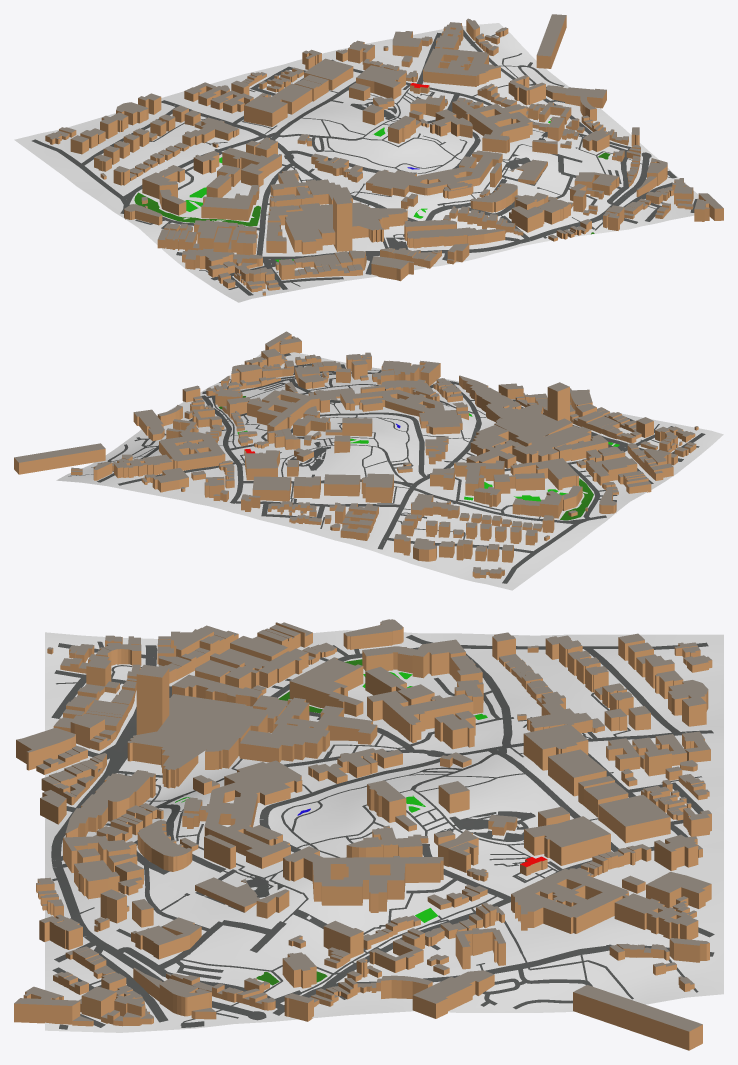
File: buildings.fbx
The picture shows the model from 3 angles, top to bottom: view 1: azimuth 30°, elevation 25°; view 2: azimuth 150°, elevation 25°; view 3: azimuth 270°, elevation 25°; orthographic projection. The views are drawn at different scales.
Parts seen in each view (by area): view 1: map_4.osm_buildings, Terrain, map_4.osm_roads_residential, map_4.osm_paths_footway, map_4.osm_roads_unclassified, map_4.osm_roads_tertiary, map_4.osm_roads_secondary, map_4.osm_roads_service, map_4.osm_forest, map_4.osm_areas_pedestrian; view 2: map_4.osm_buildings, Terrain, map_4.osm_roads_residential, map_4.osm_roads_tertiary, map_4.osm_paths_footway, map_4.osm_roads_unclassified, map_4.osm_roads_service, map_4.osm_forest; view 3: map_4.osm_buildings, Terrain, map_4.osm_paths_footway, map_4.osm_roads_unclassified, map_4.osm_roads_residential, map_4.osm_roads_secondary, map_4.osm_roads_service, map_4.osm_roads_tertiary, map_4.osm_areas_pedestrian, map_4.osm_roads_pedestrian, map_4.osm_roads_primary, map_4.osm_paths_steps.
Part boxes in pixels (x1,y1,x2,y2): map_4.osm_buildings: (45, 14, 723, 295); Terrain: (14, 23, 698, 302); map_4.osm_roads_residential: (32, 32, 441, 295); map_4.osm_paths_footway: (149, 34, 657, 286); map_4.osm_roads_unclassified: (265, 81, 697, 274); map_4.osm_roads_tertiary: (161, 30, 631, 241); map_4.osm_roads_secondary: (365, 152, 676, 256); map_4.osm_roads_service: (135, 62, 664, 289); map_4.osm_forest: (134, 152, 610, 234); map_4.osm_areas_pedestrian: (269, 102, 626, 263); map_4.osm_buildings: (14, 331, 698, 578); Terrain: (56, 352, 723, 590); map_4.osm_roads_residential: (118, 417, 705, 583); map_4.osm_roads_tertiary: (97, 383, 481, 549); map_4.osm_paths_footway: (68, 365, 659, 539); map_4.osm_roads_unclassified: (205, 353, 515, 487); map_4.osm_roads_service: (101, 367, 699, 518); map_4.osm_forest: (219, 396, 593, 520); map_4.osm_buildings: (14, 619, 712, 1050); Terrain: (45, 630, 723, 1032); map_4.osm_paths_footway: (56, 650, 701, 1018); map_4.osm_roads_unclassified: (52, 745, 618, 1029); map_4.osm_roads_residential: (51, 635, 714, 937); map_4.osm_roads_secondary: (51, 743, 266, 1027); map_4.osm_roads_service: (52, 641, 611, 1009); map_4.osm_roads_tertiary: (59, 730, 714, 1015); map_4.osm_areas_pedestrian: (127, 775, 534, 1002); map_4.osm_roads_pedestrian: (57, 863, 366, 952); map_4.osm_roads_primary: (61, 645, 171, 771); map_4.osm_paths_steps: (82, 667, 587, 1025).
Bounding box in the file's own units: 77641 × 9709 × 58214.
